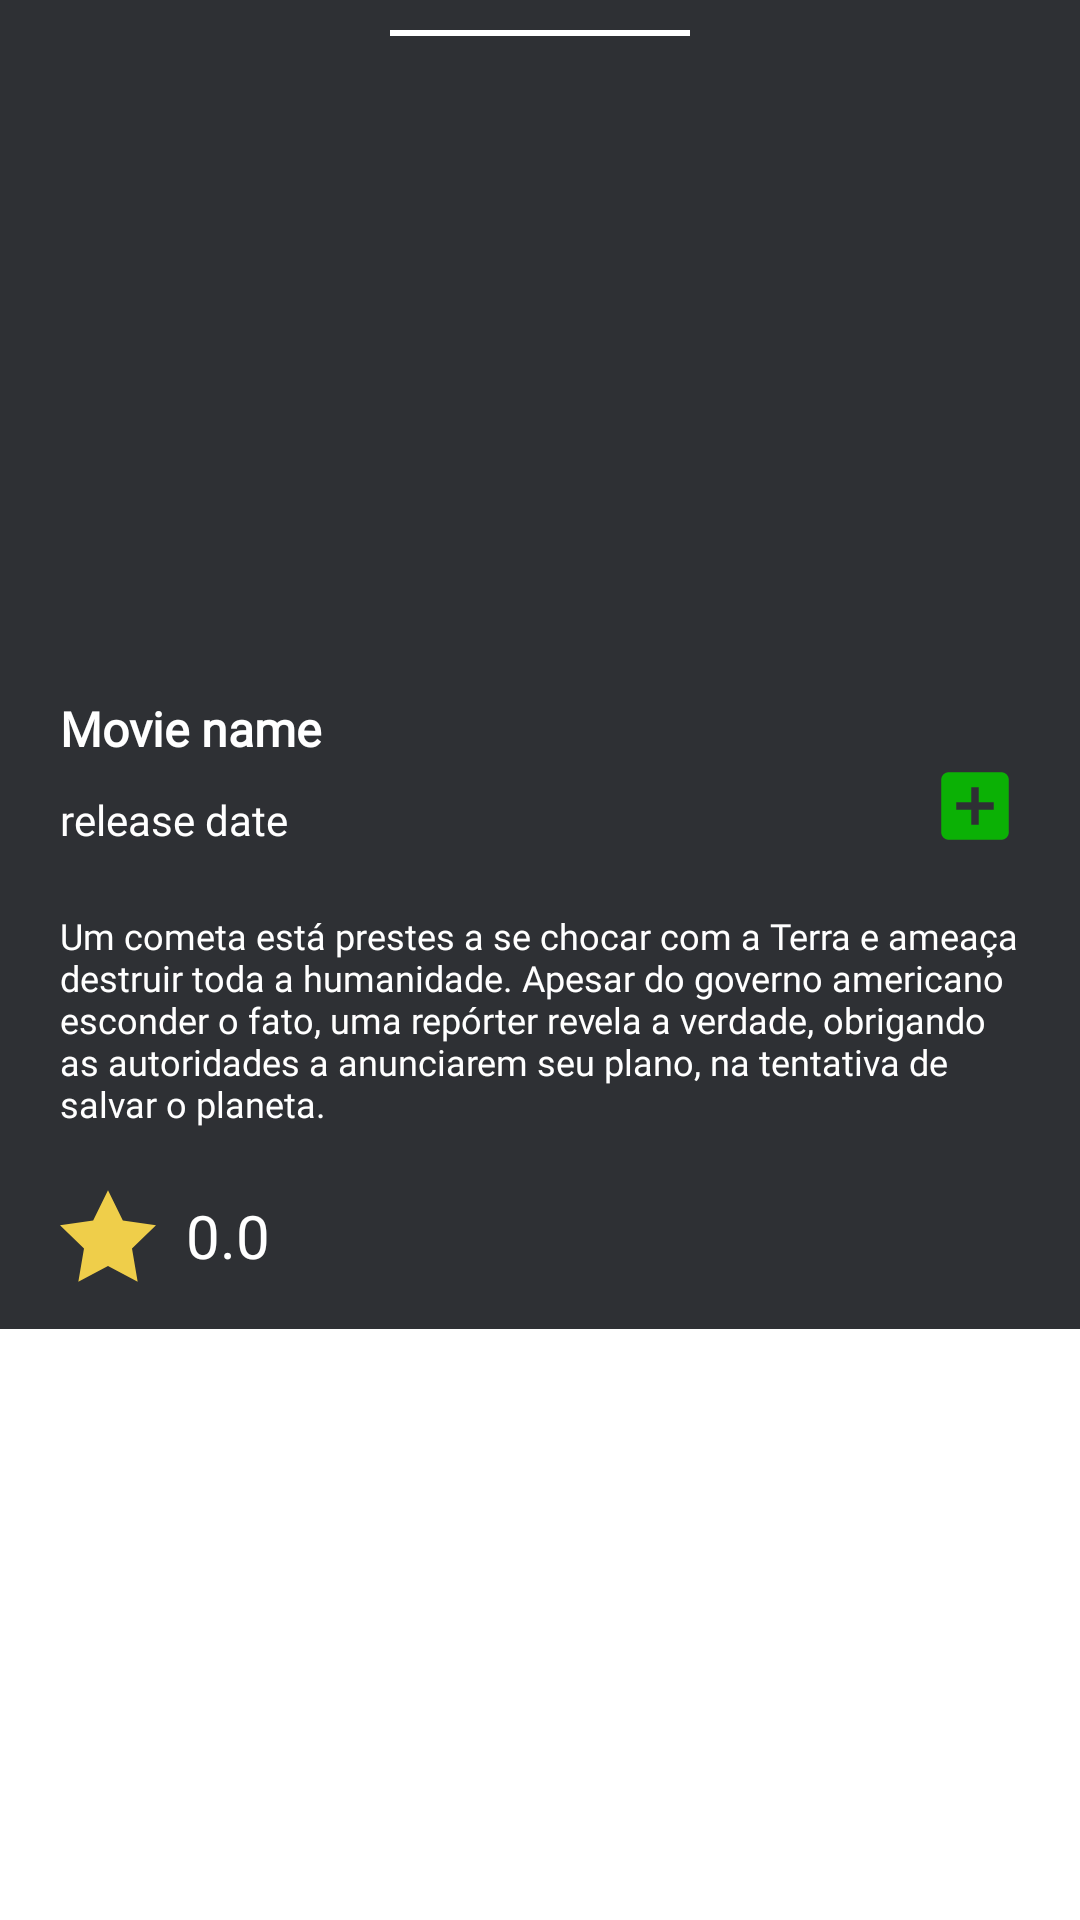

Named icons in this screenshot (1080×1920) and their centers, [x,y]:
add box: [975,806]
star: [108,1236]
